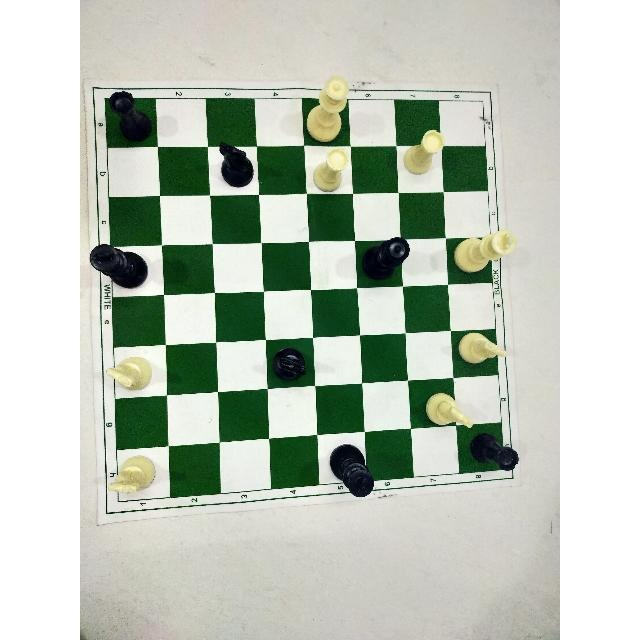black-king: (88, 241, 148, 288), (328, 443, 375, 499)
black-knight: (218, 140, 254, 187), (272, 348, 308, 382)
black-queen: (360, 236, 410, 282)
black-rook: (109, 90, 153, 144), (470, 432, 519, 472)
white-king: (453, 227, 517, 274)
white-knight: (106, 454, 156, 494), (456, 332, 508, 367), (425, 391, 474, 428), (106, 354, 152, 391)
white-queen: (306, 75, 348, 145)
white-rook: (403, 128, 445, 176), (313, 149, 349, 193)
